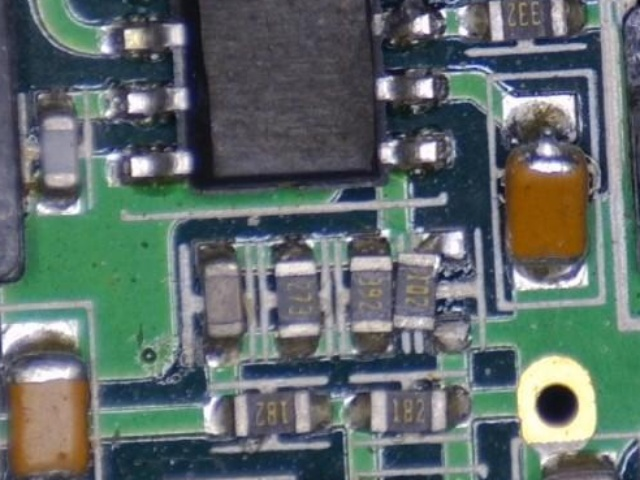pcb_defect: (503, 94, 589, 291), (393, 231, 469, 353), (370, 0, 446, 36)
